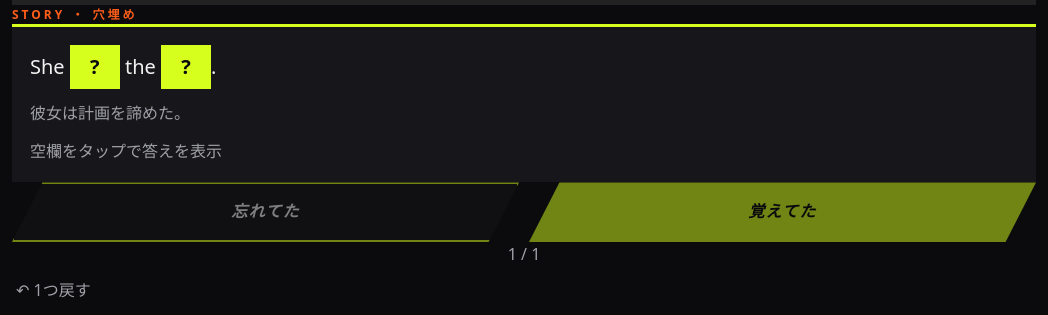
Test: SentenceReview › 穴埋め: 全部開くまで判定できず、答えるとキューに入り単語の id と区別して記録される
Expected: the text "STORY ・ 穴埋め" is shown, [12,6,138,23]
Expected: the button "覚えてた" is disabled, [529,182,1036,242]
Click the button named "空欄".
click(95, 67)  # box [70,45,120,89]
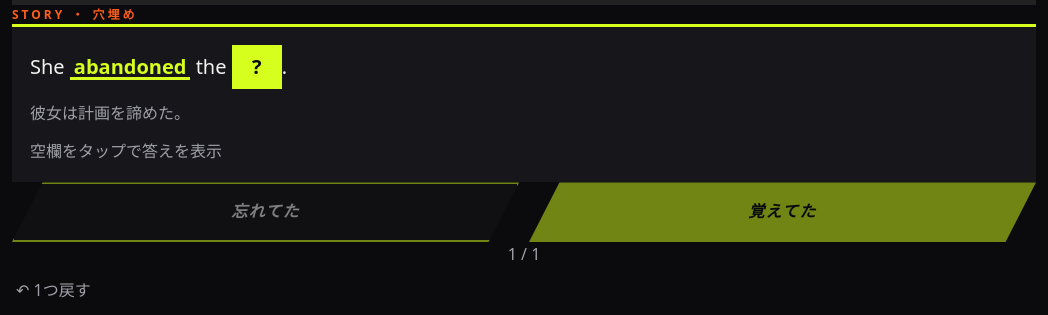
Expected: the button "覚えてた" is disabled, [529,182,1036,242]
Click the button named "空欄".
click(257, 67)  # box [232,45,282,89]
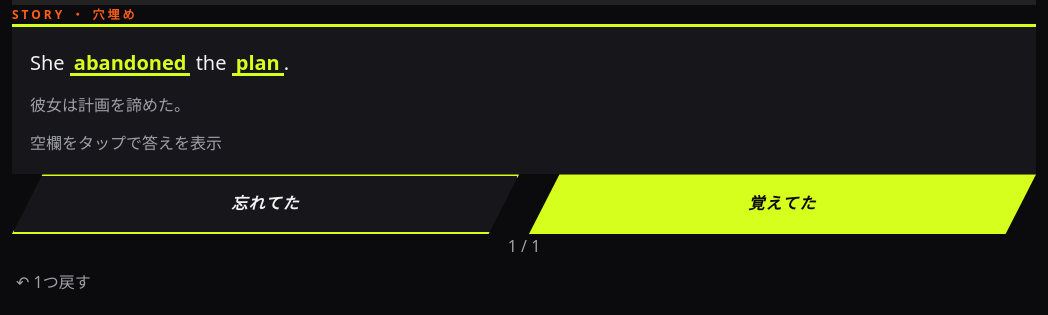
Expected: the text "abandoned" is shown, [70,49,190,76]
Expected: the button "覚えてた" is enabled
Click the button "覚えてた".
click(782, 204)  # box [529,174,1036,234]
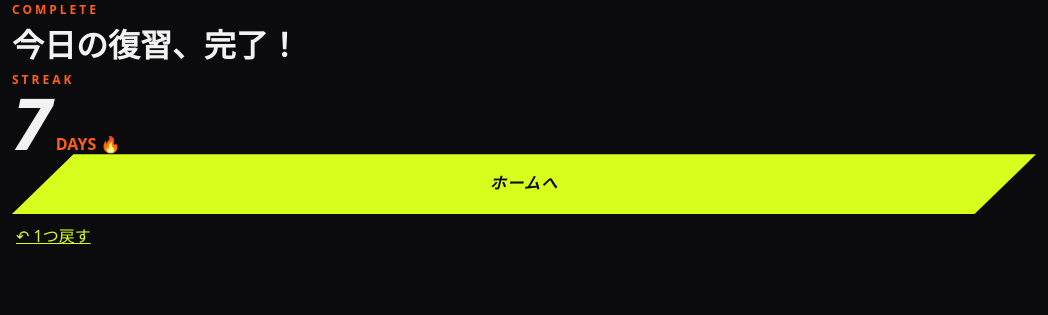
Expected: the heading "今日の復習、完了！" is shown, [12,23,300,66]
